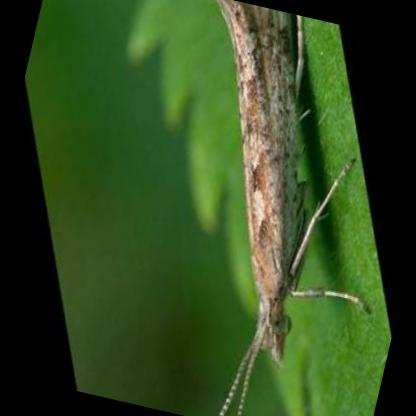plutella: (214, 0, 371, 416)
